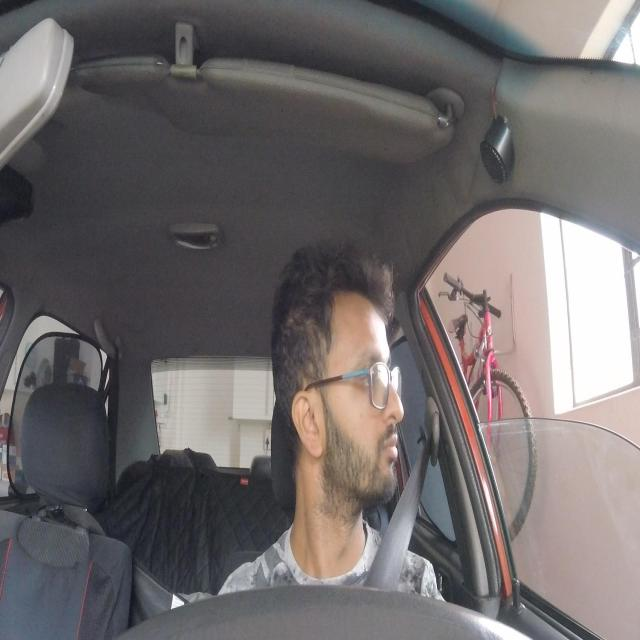open: (354, 340, 390, 403)
